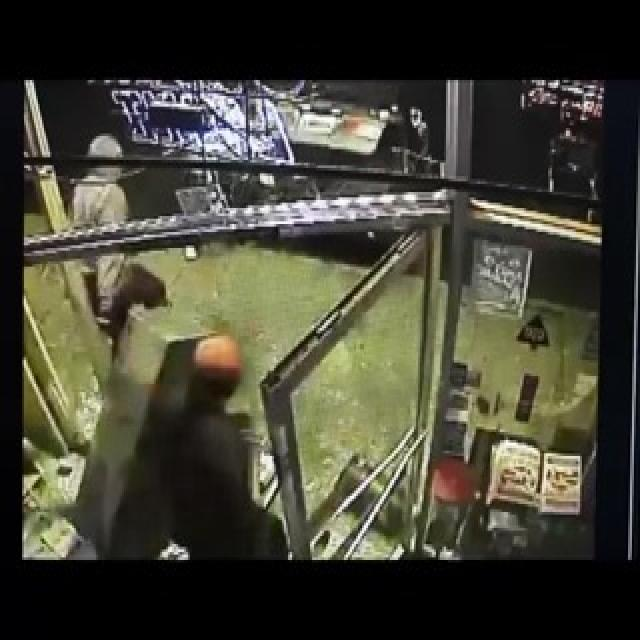thief: (171, 303, 257, 438), (74, 118, 142, 190)
